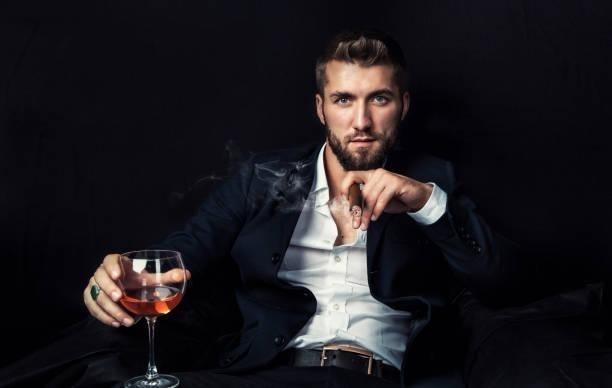glass-wine: (117, 249, 186, 388)
